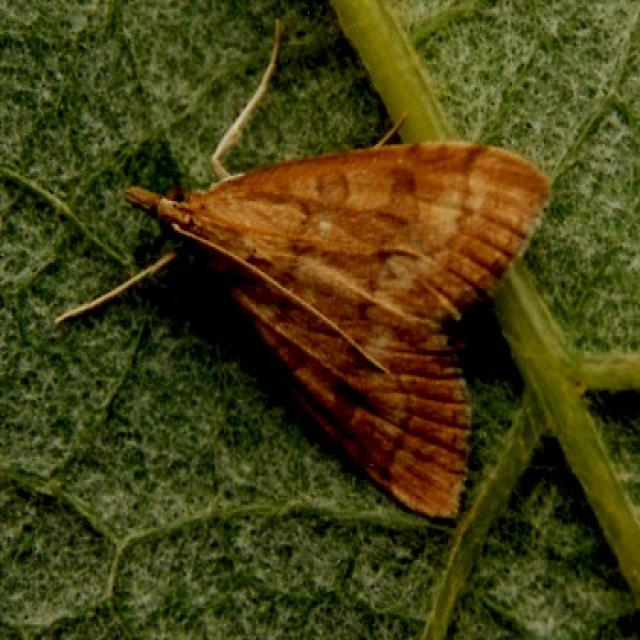cornborer-Adult-: (123, 107, 552, 534)
